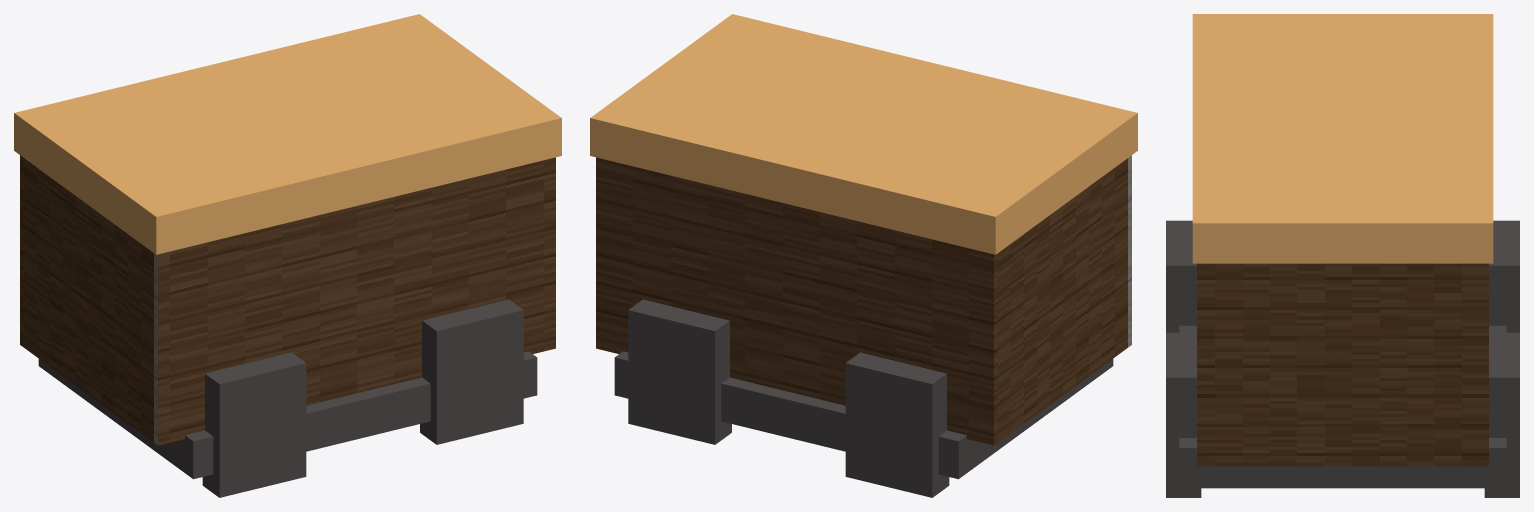
Rendered from wagon.glb.
3 views of the same model, side by side, from view 1: azimuth 30°, elevation 25°; view 2: azimuth 150°, elevation 25°; view 3: azimuth 270°, elevation 25° (orthographic). The views are drawn at different scales.
Parts seen in each view (by area): view 1: WA_Kasten, WA_Ladung, WA_Rad0L, WA_Rad1L, WA_Rahmen; view 2: WA_Kasten, WA_Ladung, WA_Rad0R, WA_Rad1R, WA_Rahmen; view 3: WA_Ladung, WA_Kasten, WA_Rahmen, WA_Rad1L, WA_Rad1R, WA_Rad0L, WA_Rad0R.
Boxes of the visible parts, bbox=[...] form: WA_Kasten: bbox=[20, 155, 555, 445]; WA_Ladung: bbox=[14, 14, 561, 254]; WA_Rad0L: bbox=[202, 352, 306, 497]; WA_Rad1L: bbox=[420, 299, 523, 444]; WA_Rahmen: bbox=[38, 351, 537, 479]; WA_Kasten: bbox=[596, 155, 1131, 445]; WA_Ladung: bbox=[590, 14, 1137, 254]; WA_Rad0R: bbox=[845, 352, 949, 497]; WA_Rad1R: bbox=[628, 299, 731, 444]; WA_Rahmen: bbox=[614, 351, 1113, 479]; WA_Ladung: bbox=[1192, 14, 1493, 263]; WA_Kasten: bbox=[1197, 263, 1488, 466]; WA_Rahmen: bbox=[1179, 325, 1506, 488]; WA_Rad1L: bbox=[1166, 332, 1201, 497]; WA_Rad1R: bbox=[1484, 332, 1519, 497]; WA_Rad0L: bbox=[1166, 220, 1196, 332]; WA_Rad0R: bbox=[1489, 220, 1519, 332].
Size of the model in its own units: 1.12 by 0.75 by 0.8.
3 materials, 1 textured.
